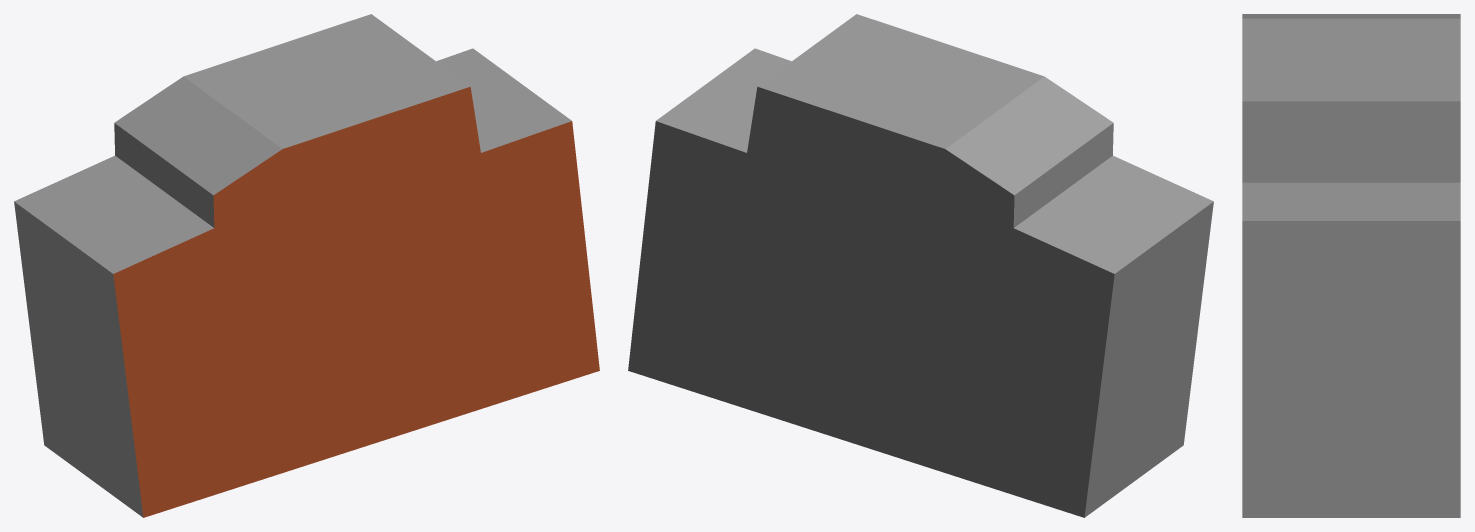
The model's file is construction_6598_assumed_A_Casa_h6m.obj.
3 renders of one model, left to right at view 1: azimuth 30°, elevation 25°; view 2: azimuth 150°, elevation 25°; view 3: azimuth 270°, elevation 25°, orthographic. The views are drawn at different scales.
Visible parts, largest first — view 1: construction_6598_assumed_A_Casa; view 2: construction_6598_assumed_A_Casa; view 3: construction_6598_assumed_A_Casa.
Boxes of the visible parts, x1=… form: construction_6598_assumed_A_Casa: x1=14, y1=14, x2=599, y2=517; construction_6598_assumed_A_Casa: x1=628, y1=14, x2=1213, y2=517; construction_6598_assumed_A_Casa: x1=1242, y1=14, x2=1460, y2=517.
Size of the model in its own units: 16.99 by 11.73 by 6.
